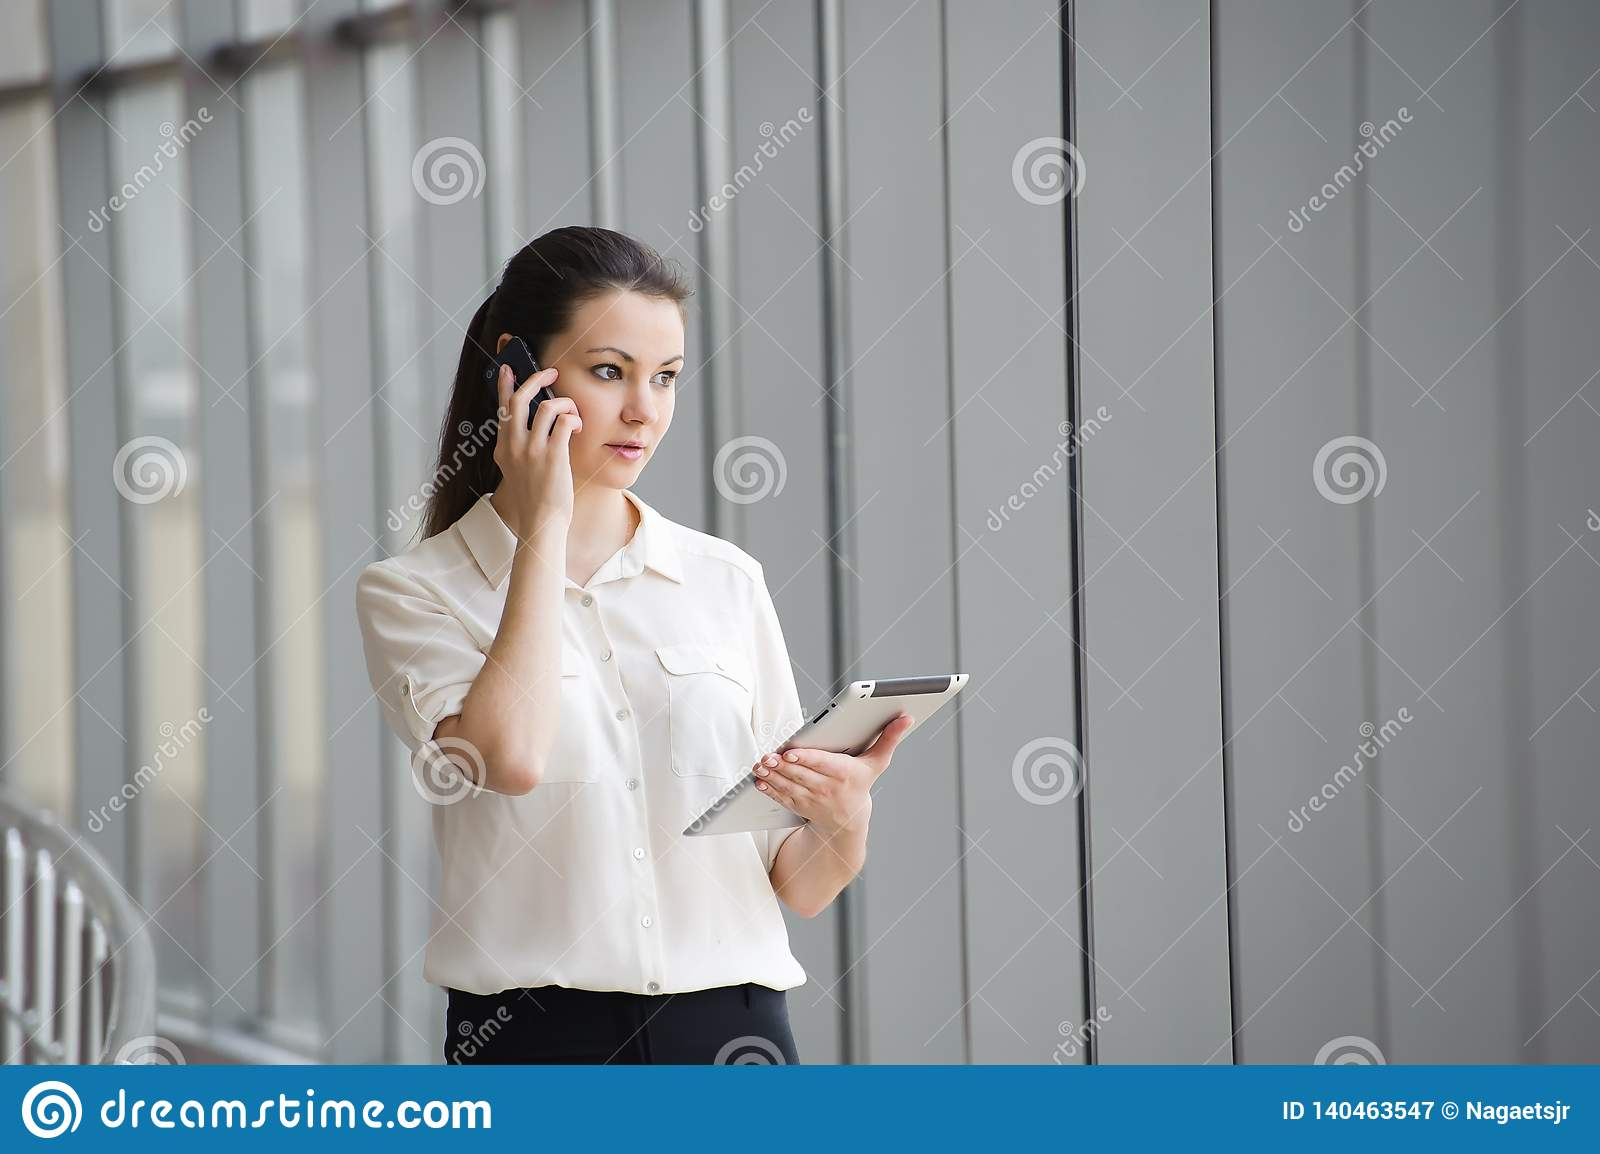phone: (496, 342, 560, 436)
talk: (489, 327, 684, 542)
